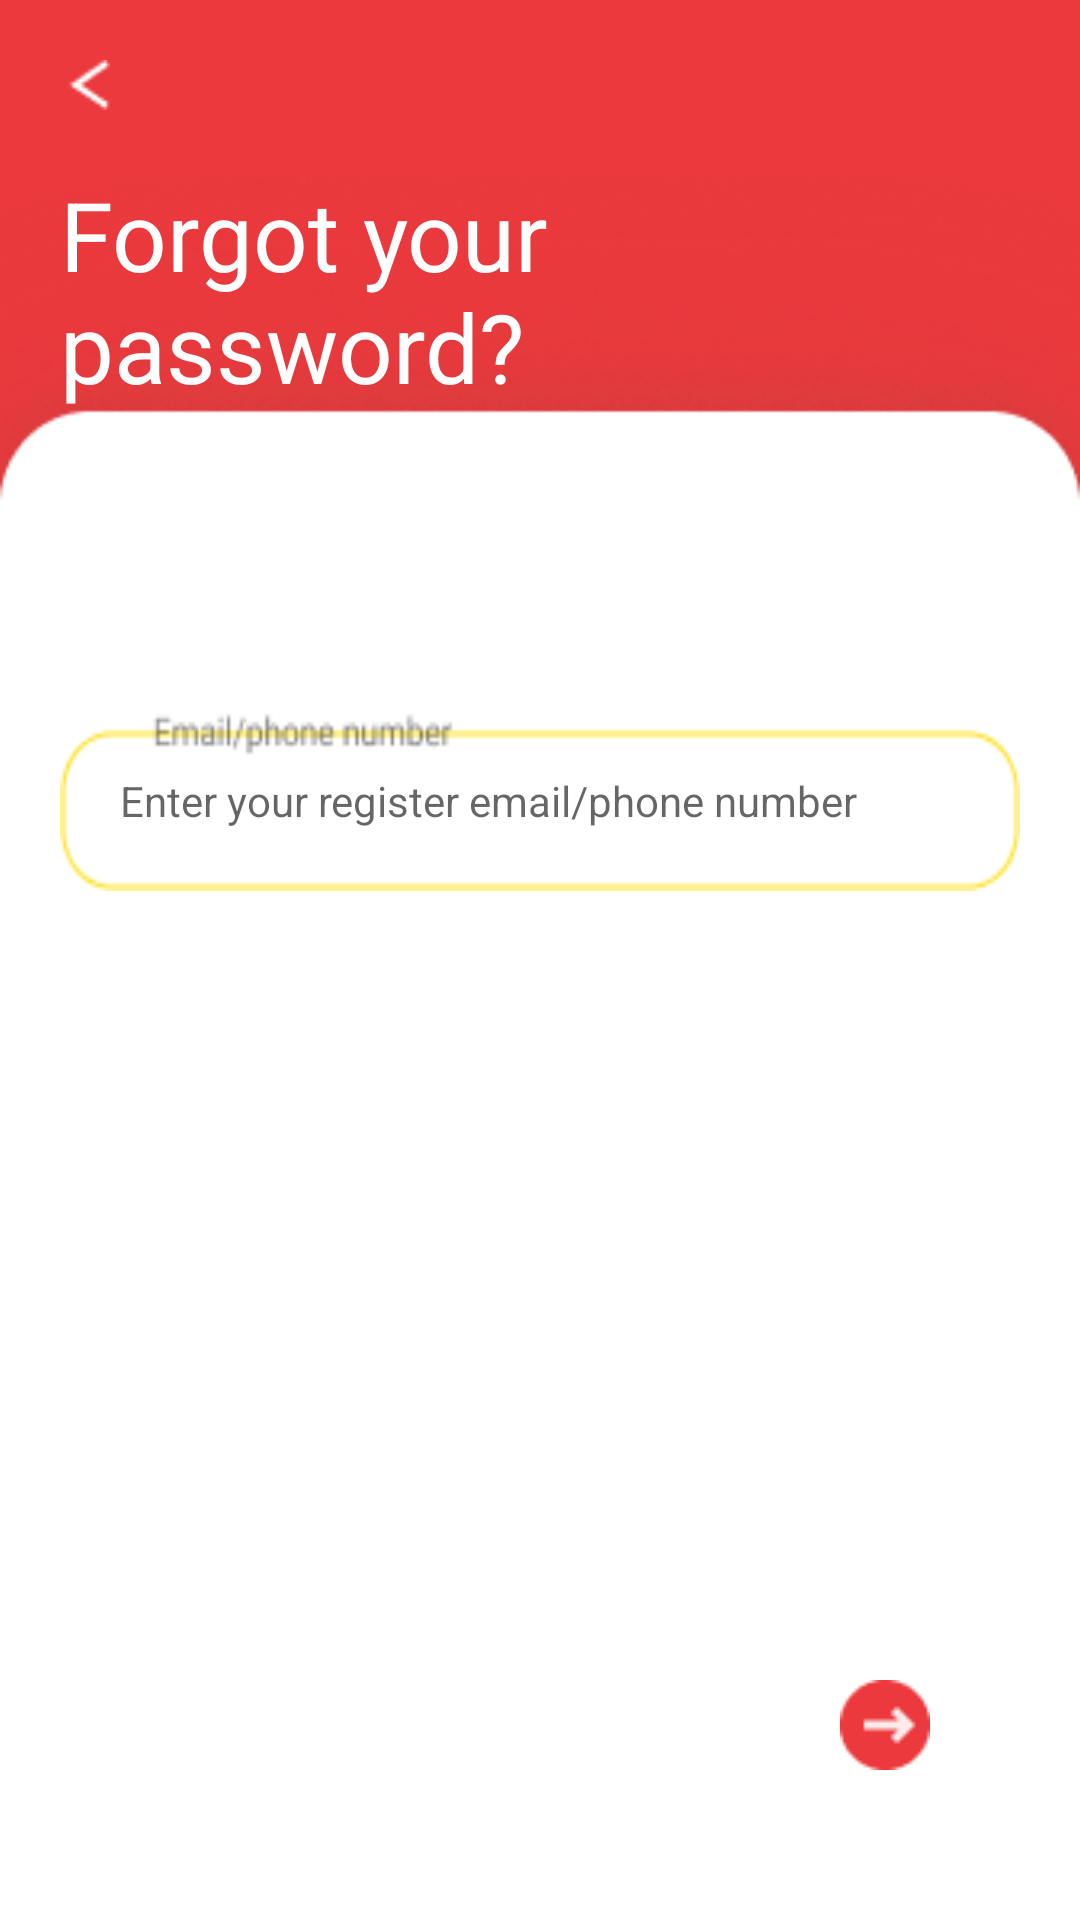

Point at icon controls on the screen. Image size 1080w x 1920h, points as point (x, y).
arraw back: point (89, 85)
arrow next: point (885, 1725)
